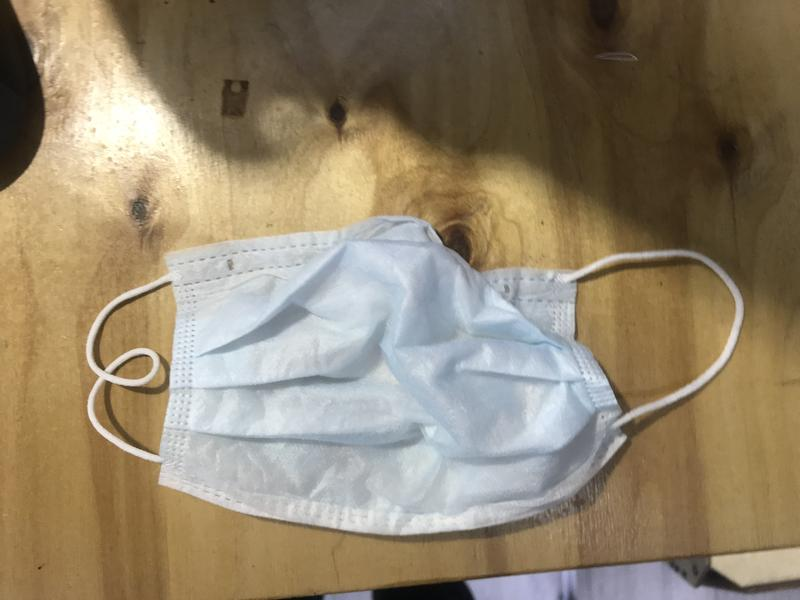medical_mask: (85, 216, 744, 536)
